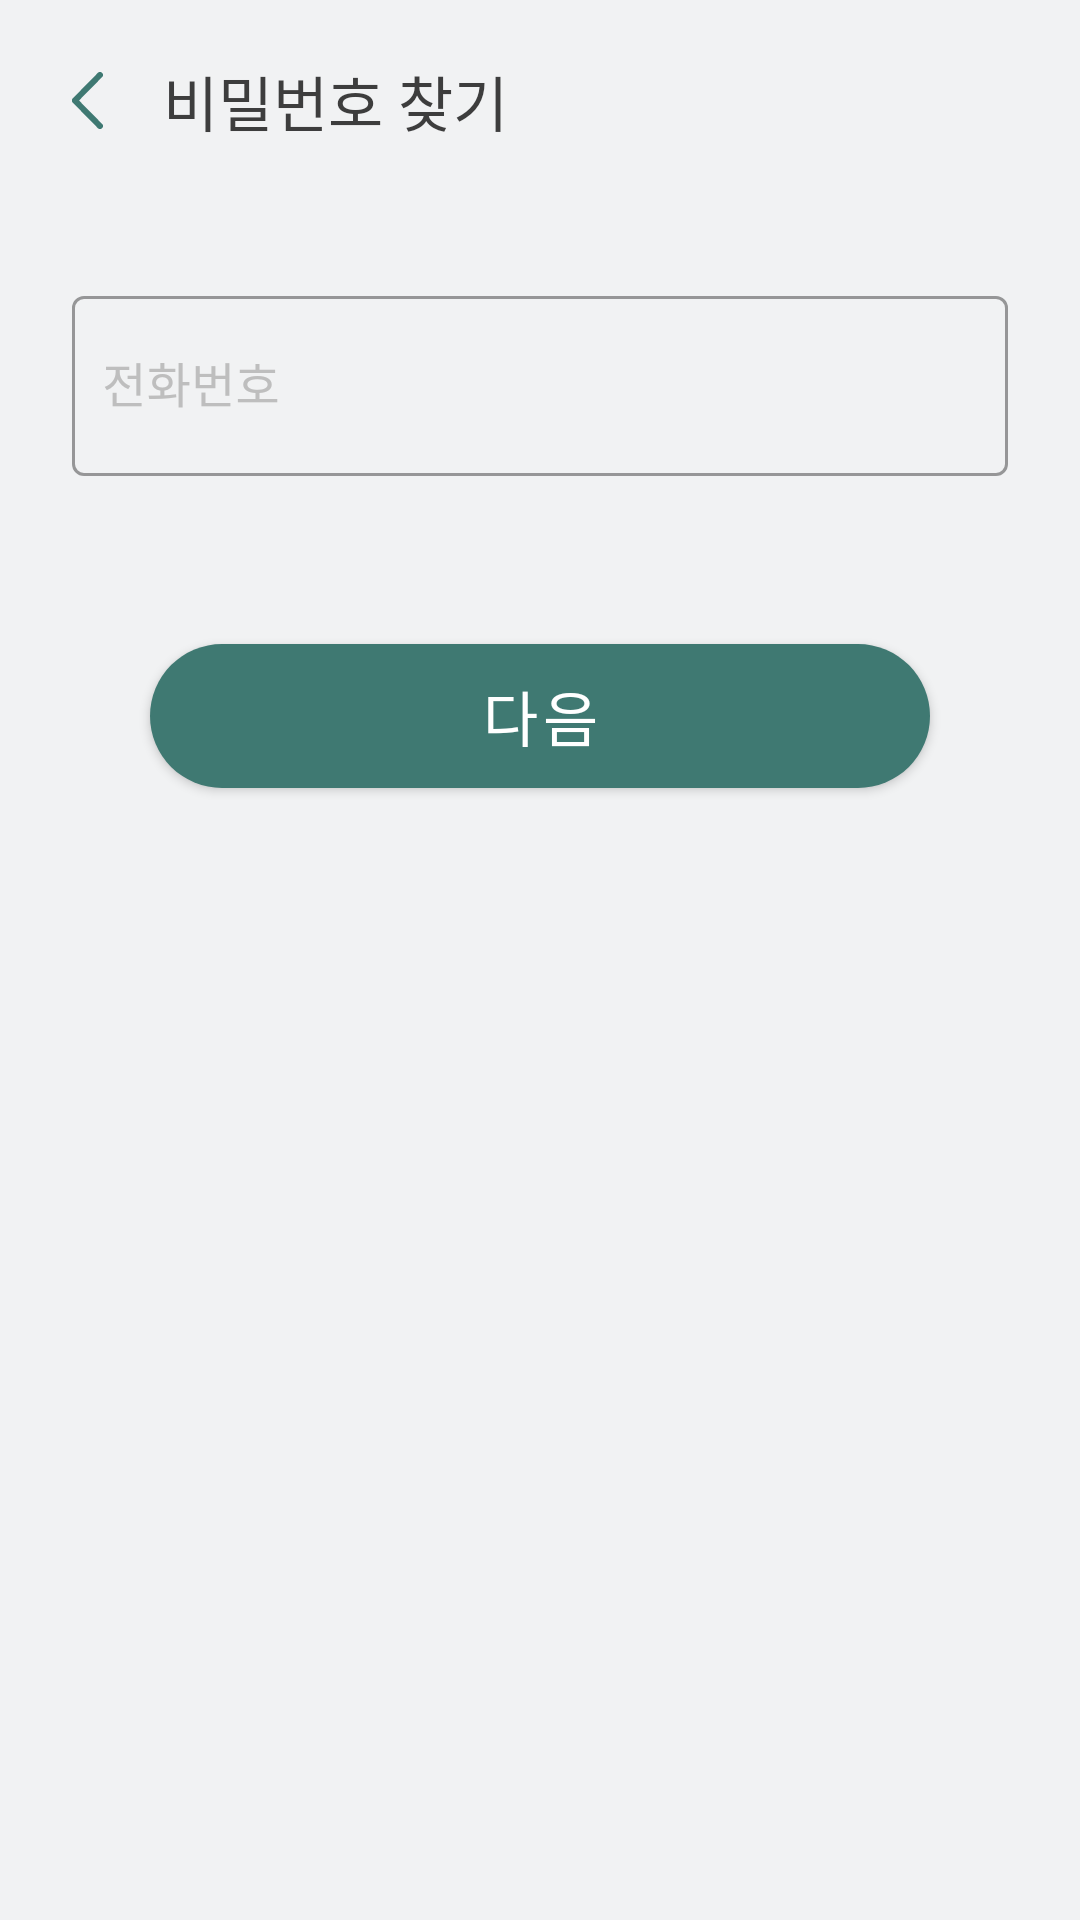

Icons on this 1080*1920 Android screen, each with its box as (x1, y1, x2, y2):
back: (72, 72, 103, 129)
